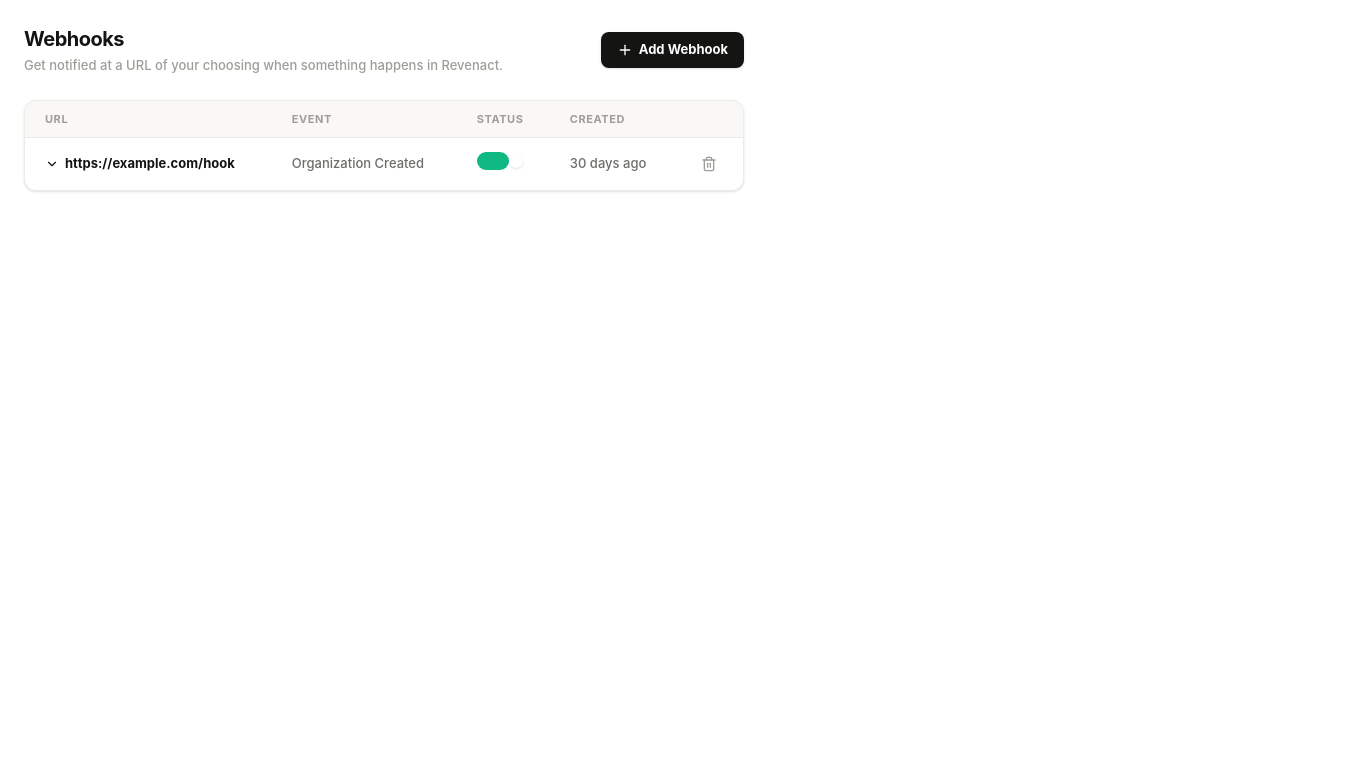
WebhooksPage › deleting a webhook removes it after confirming
The image size is (1366, 768).
Expected: the text "https://example.com/hook" is shown, [65, 154, 235, 174]
Click the button named "Delete webhook for" at [709, 164], box [695, 150, 723, 178]
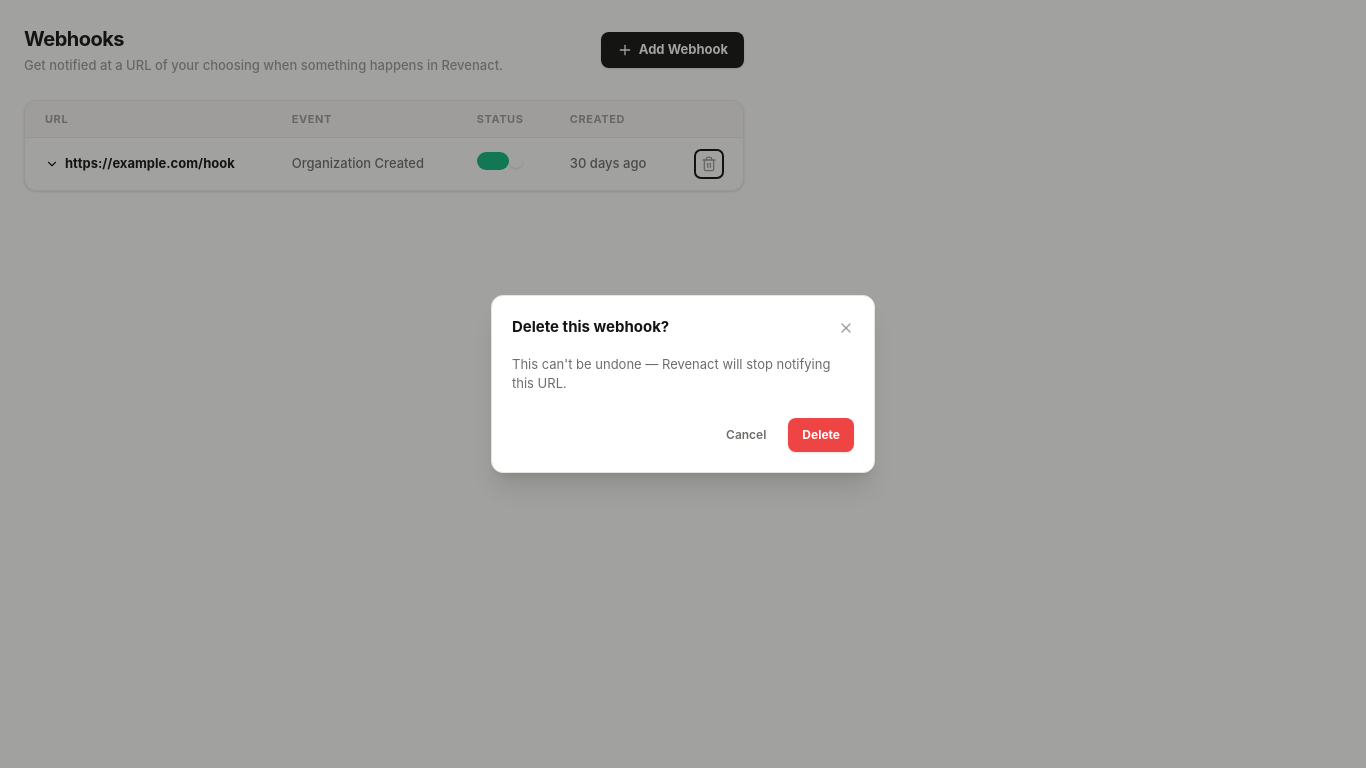
Click the button "Delete" at [821, 435], box [788, 418, 854, 452]
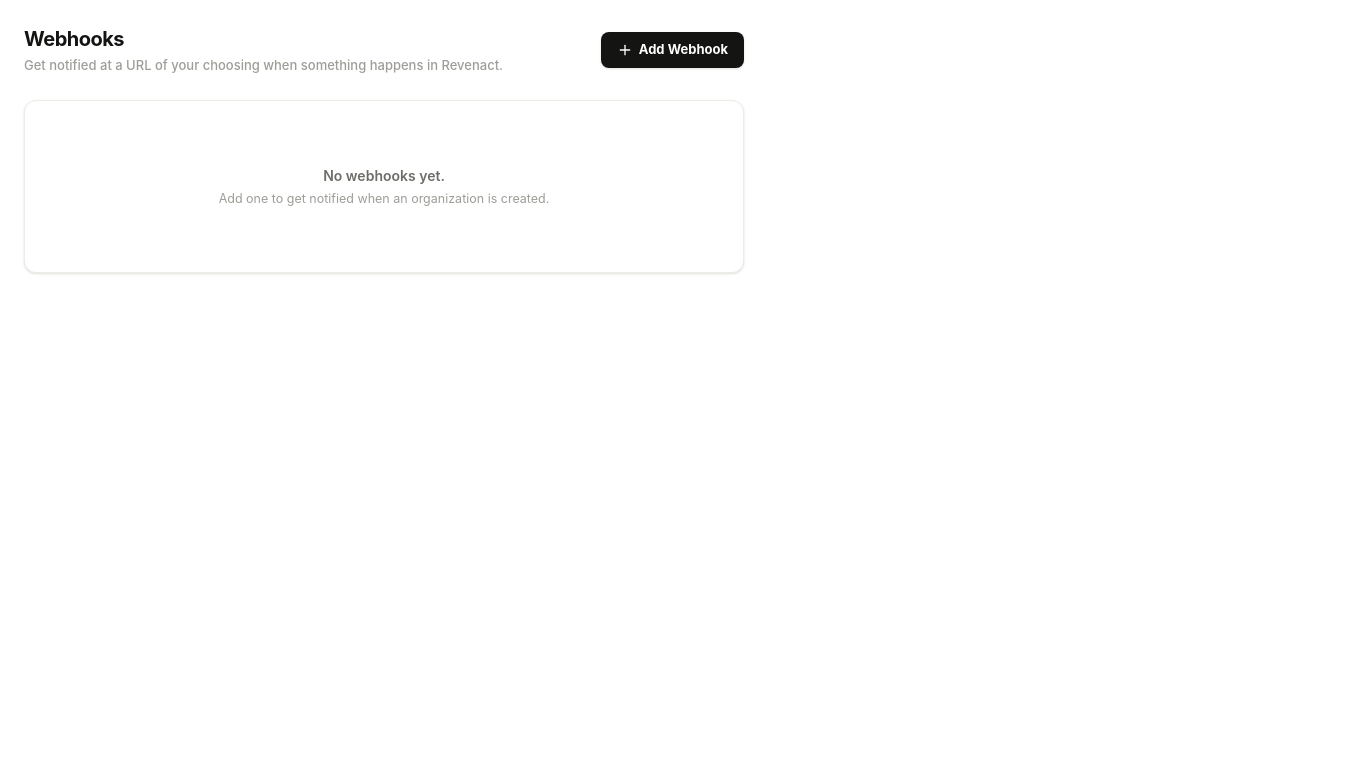
Now the text "No webhooks yet." is shown, box [323, 164, 445, 186]
